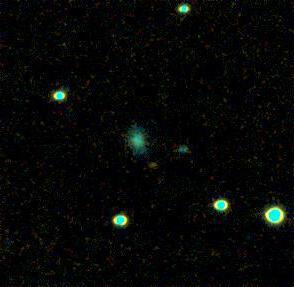star: (138, 149, 168, 179)
